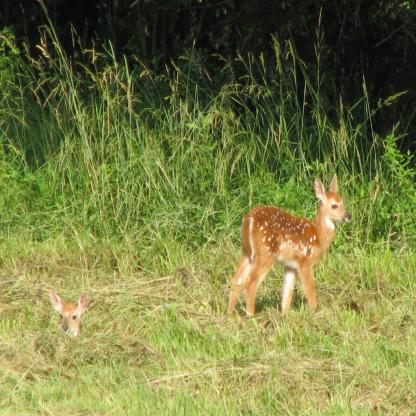Deer: (227, 171, 354, 324)
